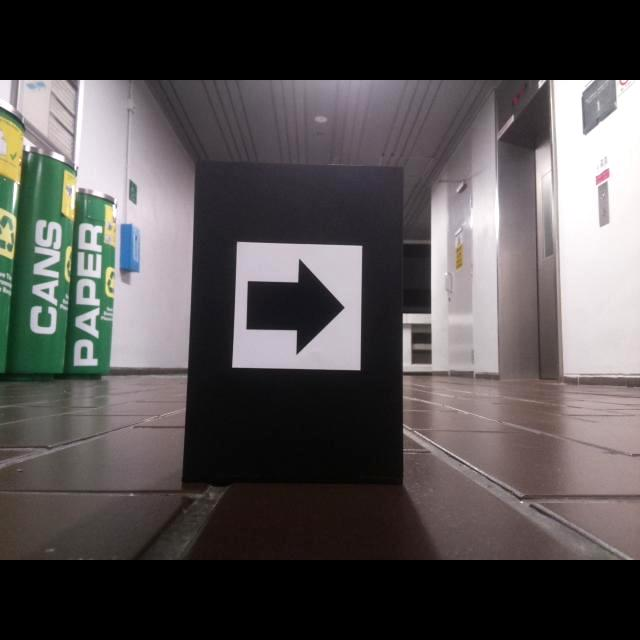RIGHT: (247, 258, 344, 356)
